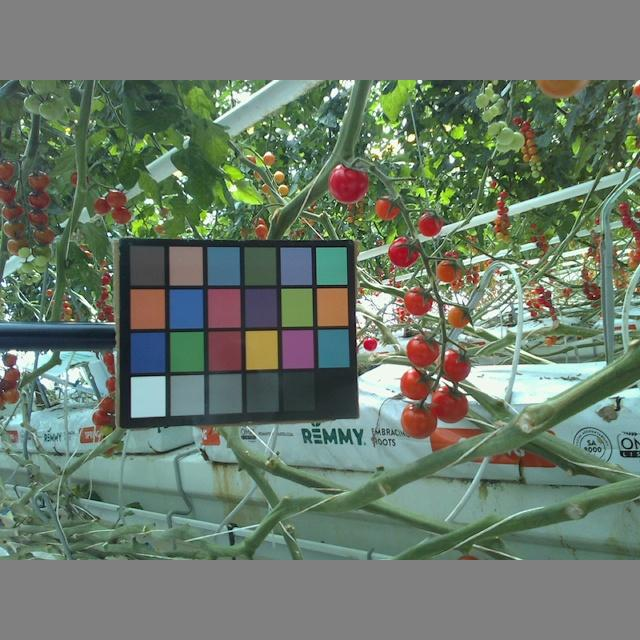pink: (432, 384, 469, 425), (400, 402, 439, 440), (399, 368, 434, 402), (436, 350, 471, 382), (407, 333, 439, 367), (373, 195, 403, 220), (404, 285, 428, 315), (447, 300, 471, 328), (435, 254, 458, 283)
red: (327, 159, 370, 205), (386, 236, 419, 269), (418, 208, 442, 236)
